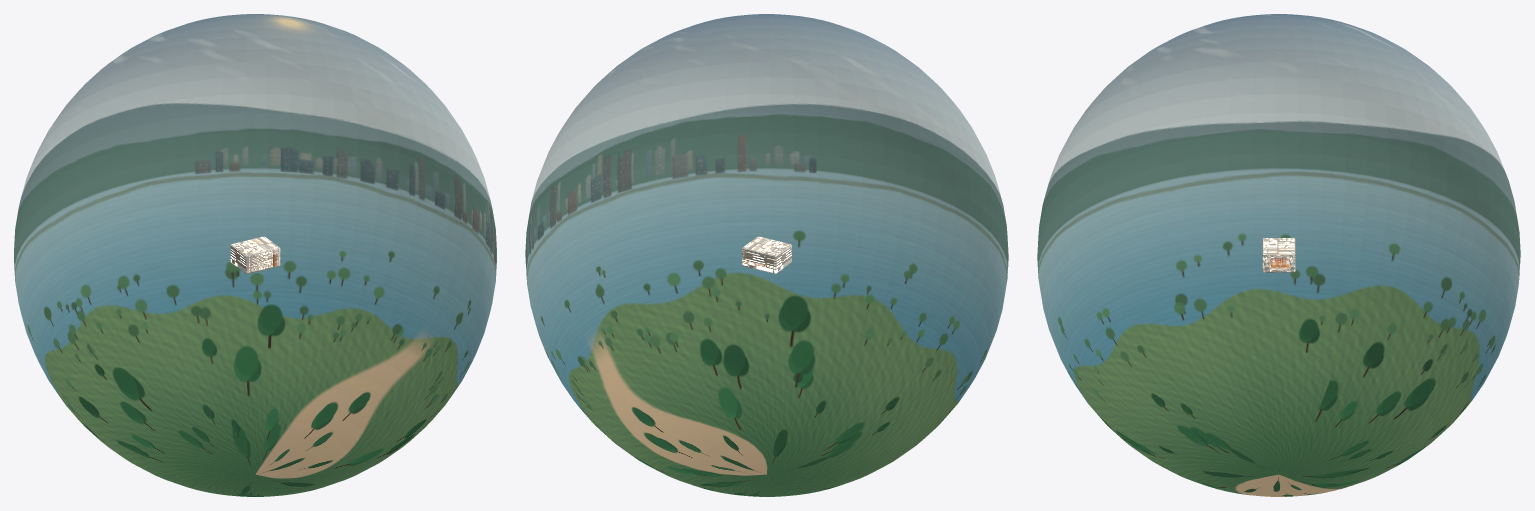
3 views of the same model, side by side, from view 1: azimuth 30°, elevation 25°; view 2: azimuth 150°, elevation 25°; view 3: azimuth 270°, elevation 25° (orthographic).
Parts seen in each view (by area): view 1: exterior.panorama-sphere, architecture.ceiling; view 2: exterior.panorama-sphere, architecture.wall.north, architecture.ceiling; view 3: exterior.panorama-sphere, architecture.ceiling.
Part boxes in pixels (<box>): exterior.panorama-sphere: <box>14,14,496,496</box>; architecture.ceiling: <box>231,236,279,256</box>; exterior.panorama-sphere: <box>525,14,1008,496</box>; architecture.wall.north: <box>742,248,775,273</box>; architecture.ceiling: <box>742,236,791,256</box>; exterior.panorama-sphere: <box>1037,14,1520,496</box>; architecture.ceiling: <box>1263,238,1294,254</box>.
Bounding box in the file's own units: 79.99 × 80 × 79.99.
Materials: 16 (4 with a texture image).
